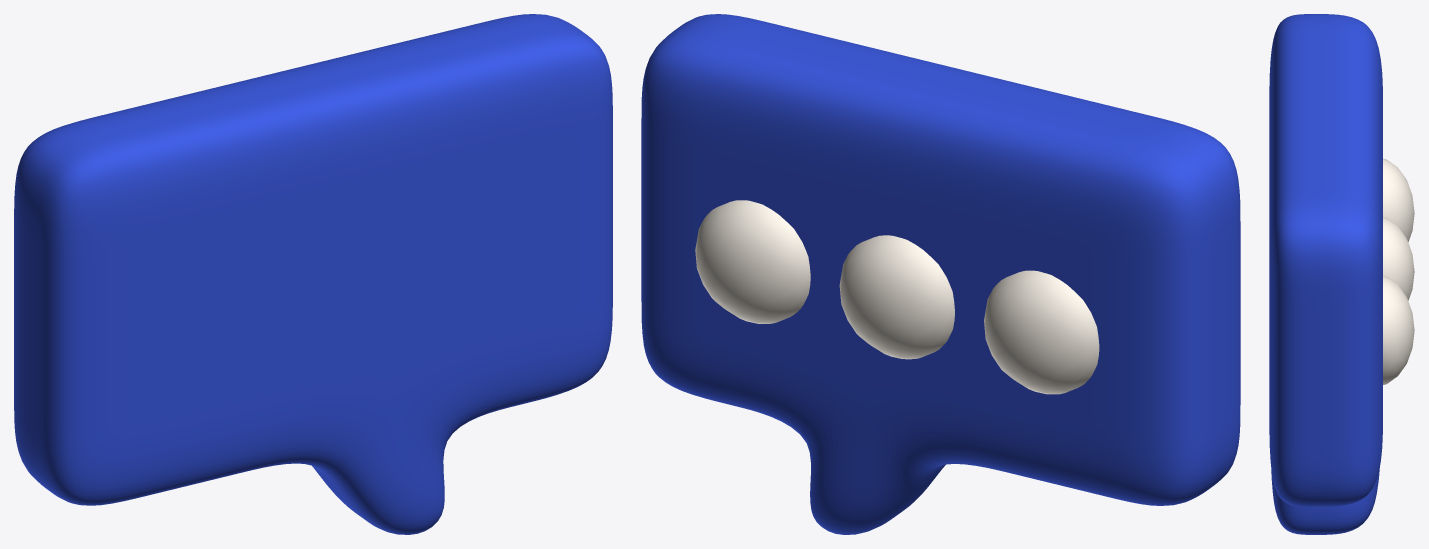
File: voice2.glb
3 renders of one model, left to right at view 1: azimuth 30°, elevation 25°; view 2: azimuth 150°, elevation 25°; view 3: azimuth 270°, elevation 25°, orthographic. The views are drawn at different scales.
Size of the model in its own units: 3.17 by 2.49 by 0.8491.
